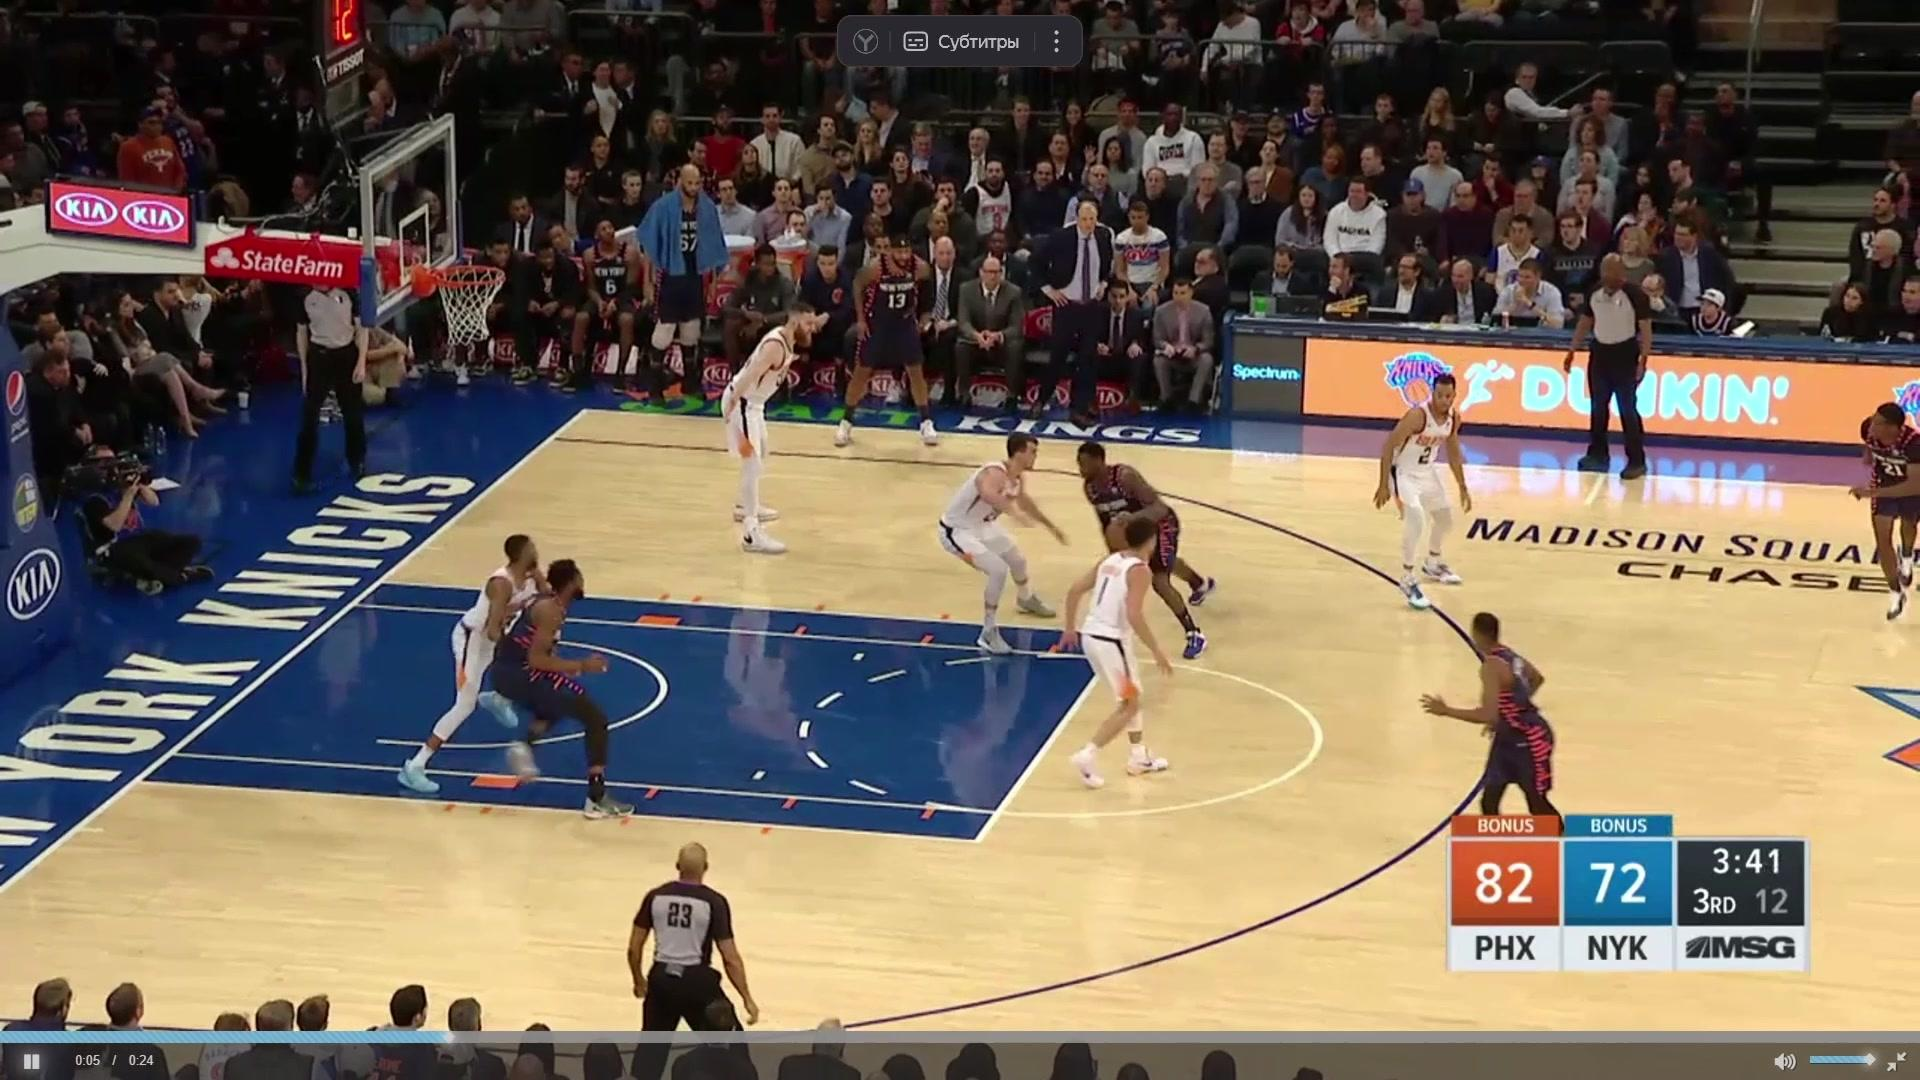no_foul: (942, 405, 1246, 674)
